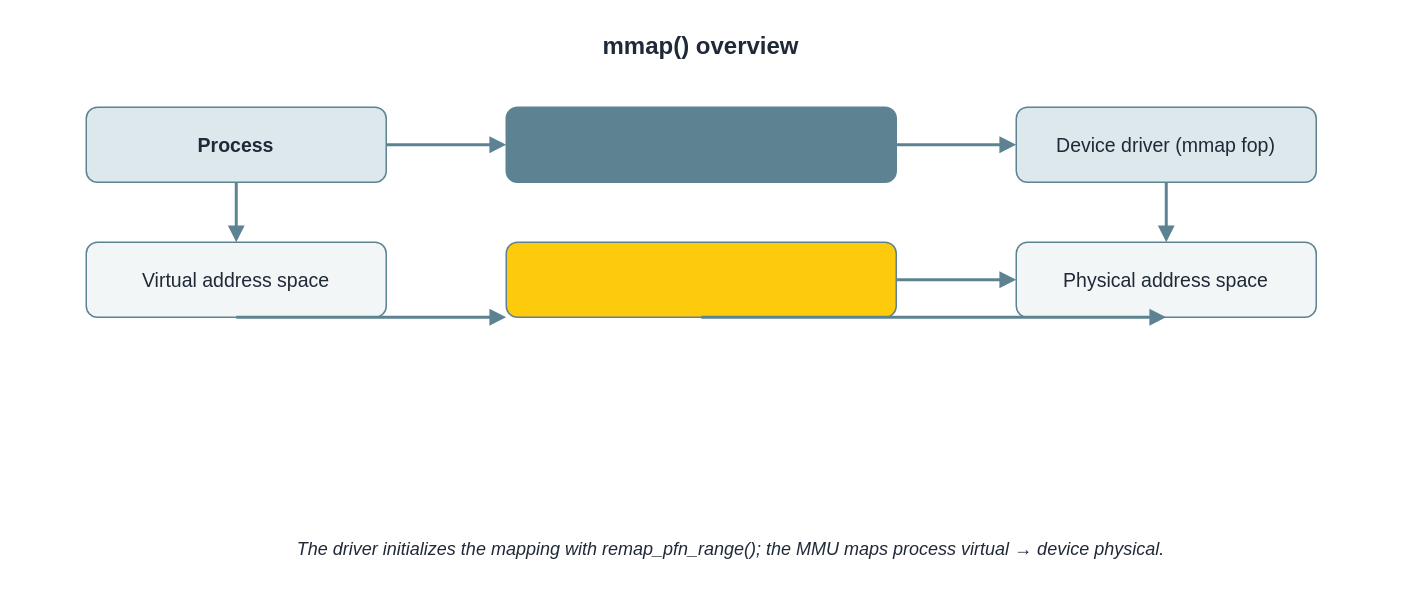
Some shapes in this 1401 by 597 pixel diagram are drawn without their labels. The shapes that lost their labels are listed below. From the top down, each one's centre as x and y in pixels, then its label:
the point at 700,144: mmap() system call
the point at 700,279: MMU (page tables)
